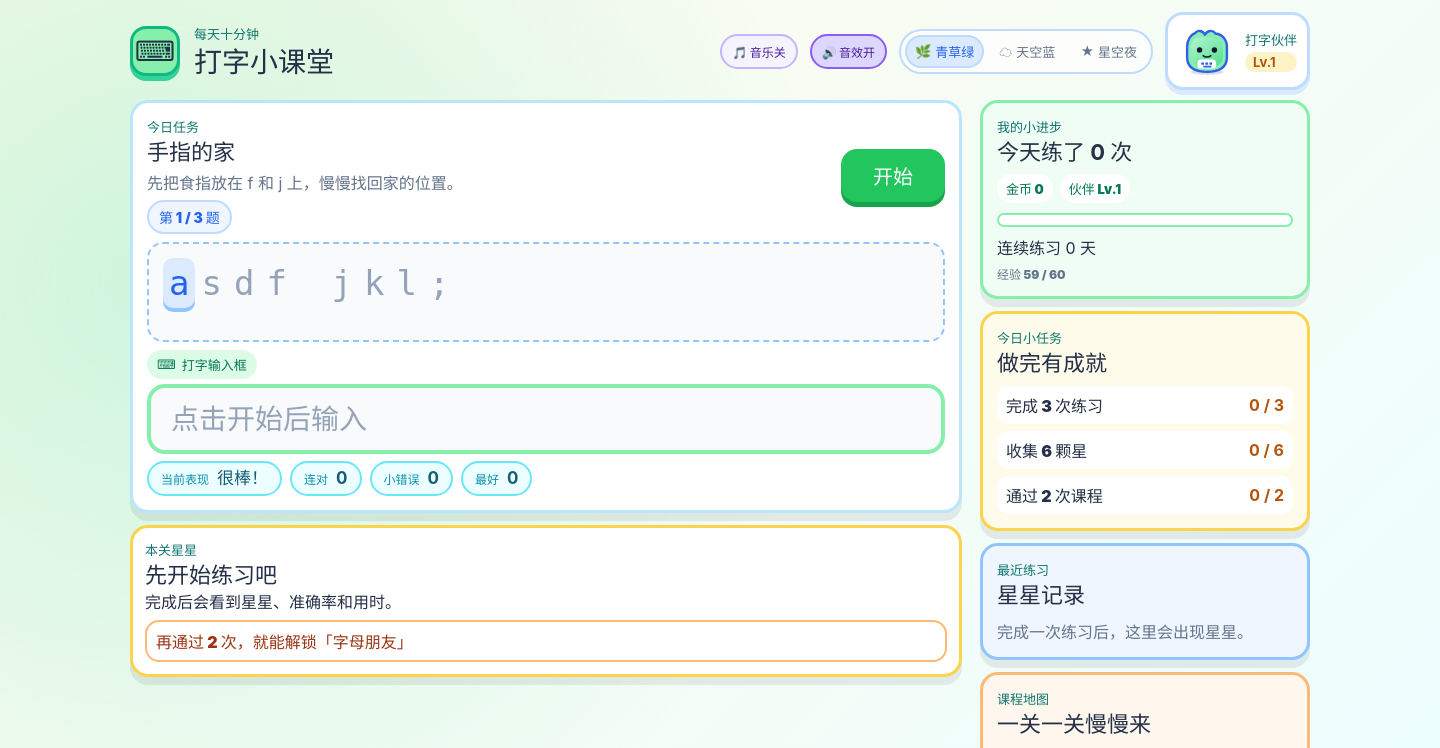
Scenario: App › shows a level-up burst feedback when mascot reaches a new level
Click the button "开始" at (893, 176), box [841,149,945,202]
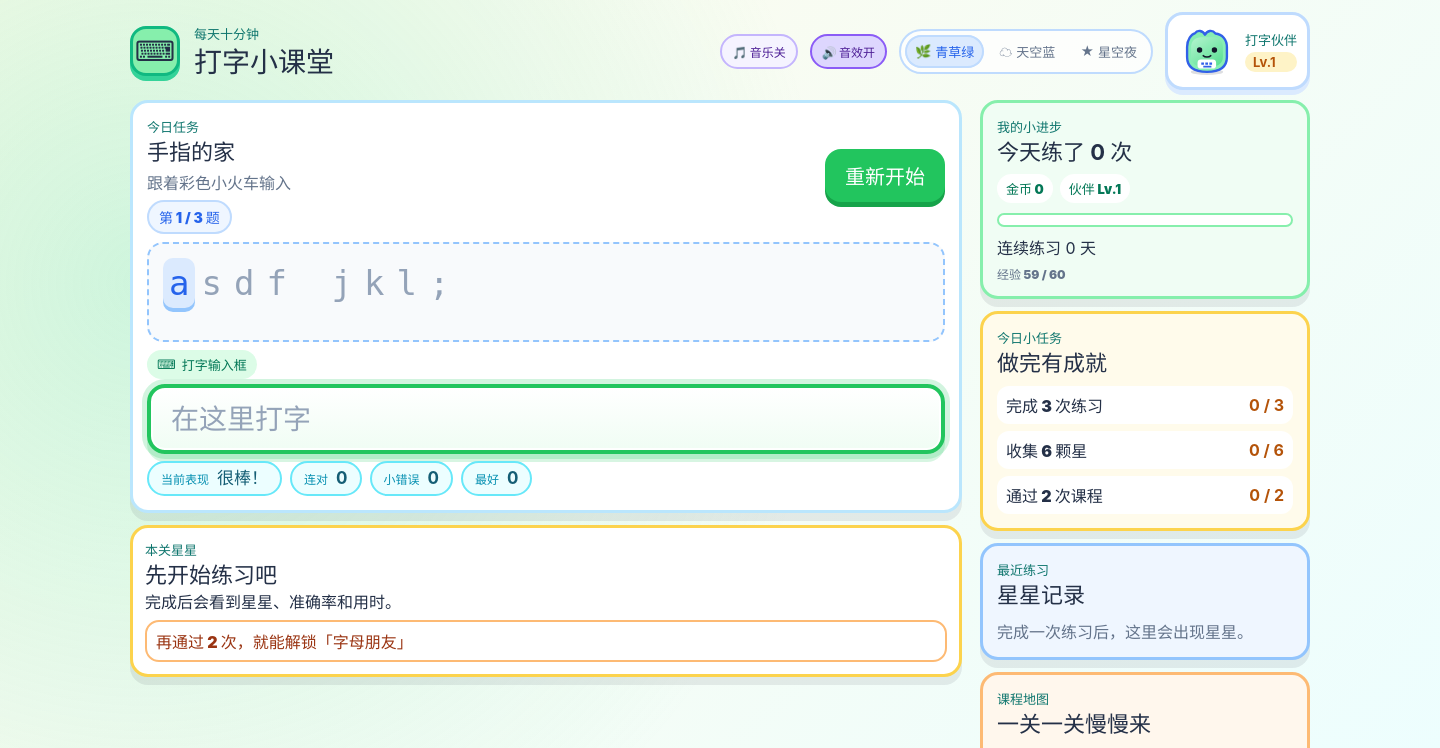
Type "asdf jkl;" into the field labelled "打字输入框" at (546, 419), box [147,384,945,454]
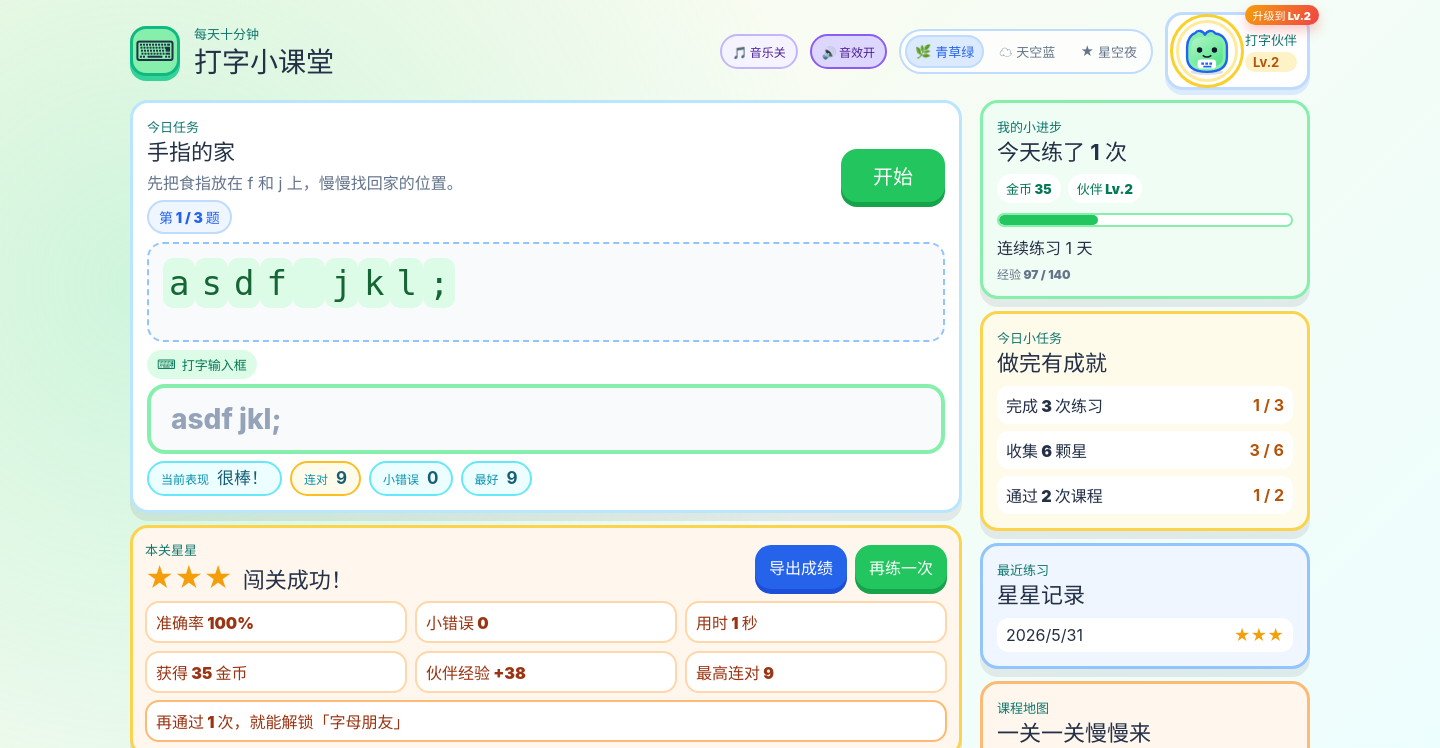
Now the text "升级到 Lv.2" is shown, box [1244,5,1319,25]
Now the button with aria-label "打开打字伙伴" shows "Lv.2", box [1165,12,1310,90]
